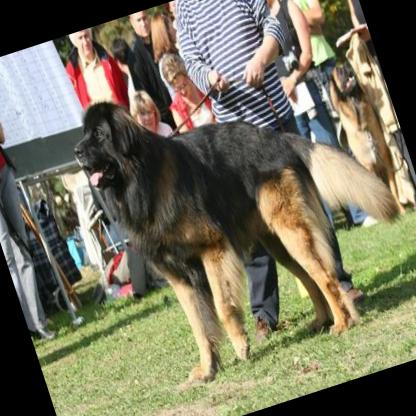Leonberg: (60, 24, 416, 398)
